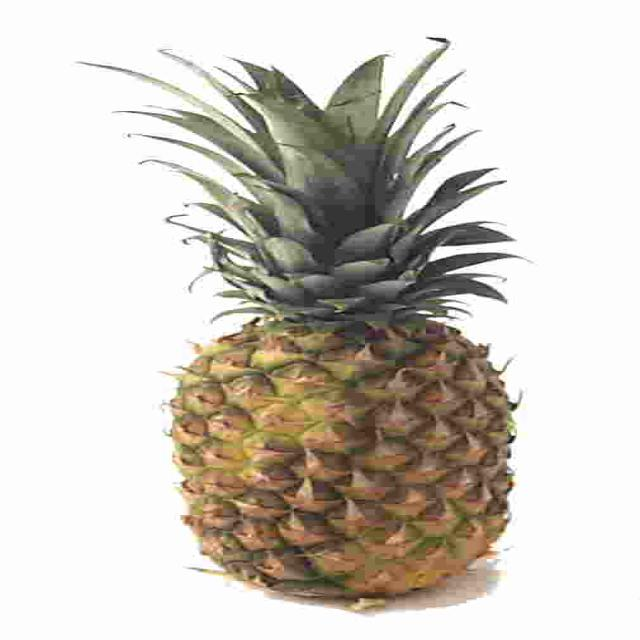pineapple: (137, 258, 533, 614)
